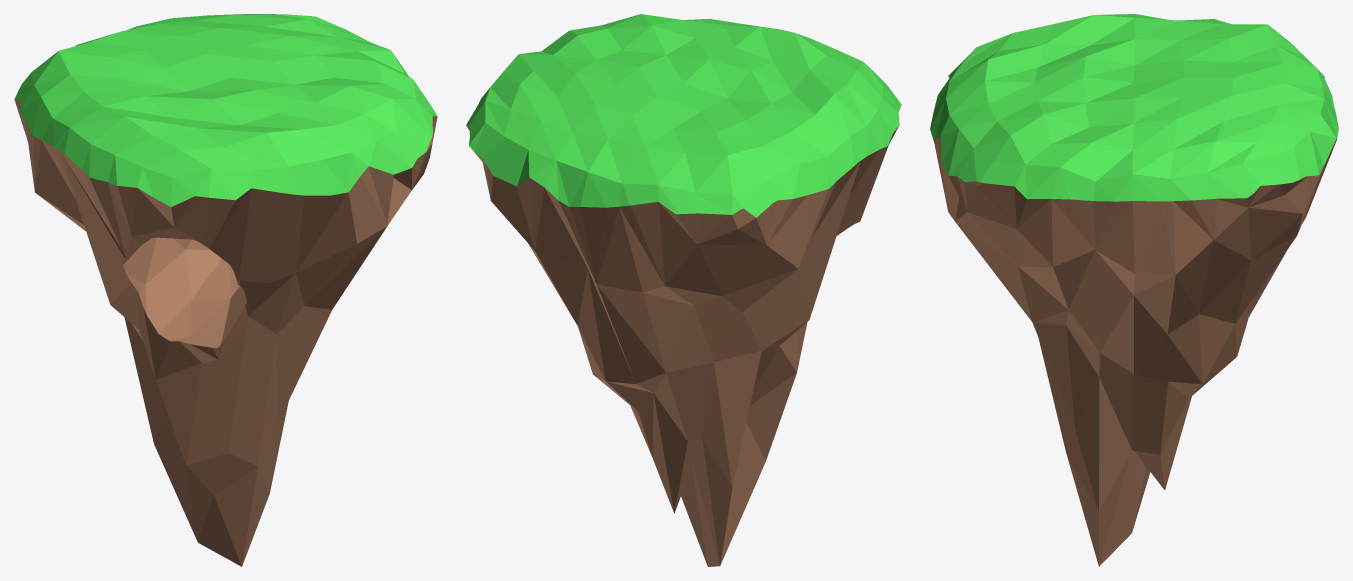
The model's file is island.glb.
3 renders of one model, left to right at view 1: azimuth 30°, elevation 25°; view 2: azimuth 150°, elevation 25°; view 3: azimuth 270°, elevation 25°, orthographic. The views are drawn at different scales.
Visible parts, largest first — view 1: Island_IslandDirt_0.001; view 2: Island_IslandDirt_0.001; view 3: Island_IslandDirt_0.001.
Part boxes in pixels (x1,y1,x2,y2): Island_IslandDirt_0.001: [14, 14, 437, 566]; Island_IslandDirt_0.001: [466, 14, 901, 566]; Island_IslandDirt_0.001: [930, 14, 1338, 566].
Bounding box in the file's own units: 36.48 × 49.24 × 37.03.
